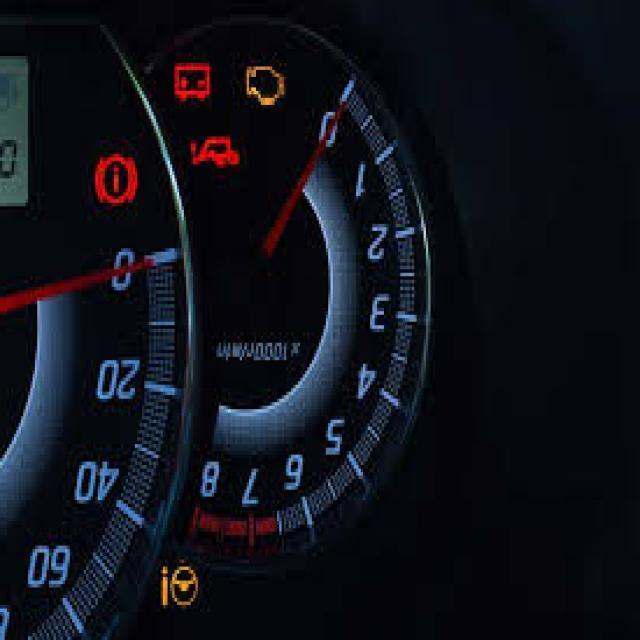Electronic Power Steering: (155, 562, 199, 608)
